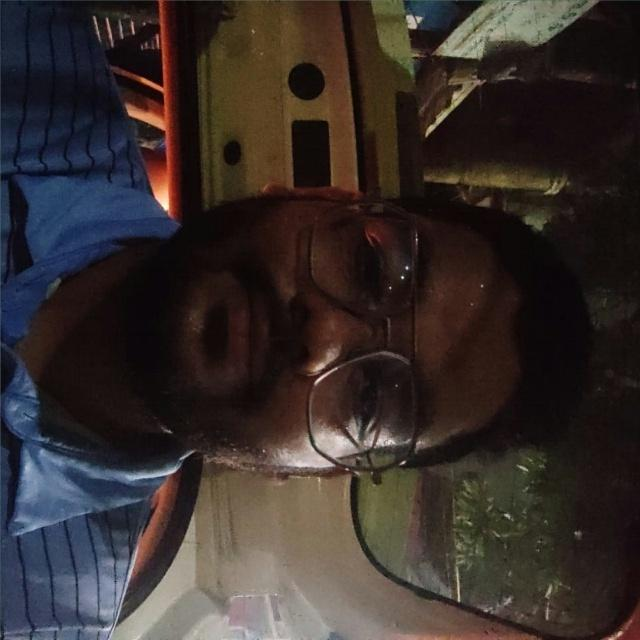Happy: (137, 137, 550, 512)
